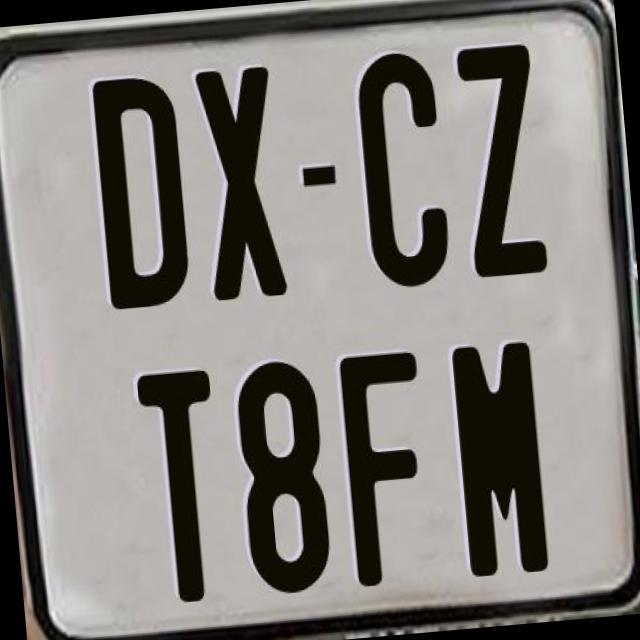8: (230, 354, 336, 602)
C: (352, 49, 452, 298)
D: (88, 72, 192, 318)
F: (334, 347, 434, 592)
M: (446, 337, 544, 576)
T: (133, 365, 230, 609)
X: (192, 62, 291, 300)
Z: (456, 43, 554, 287)
